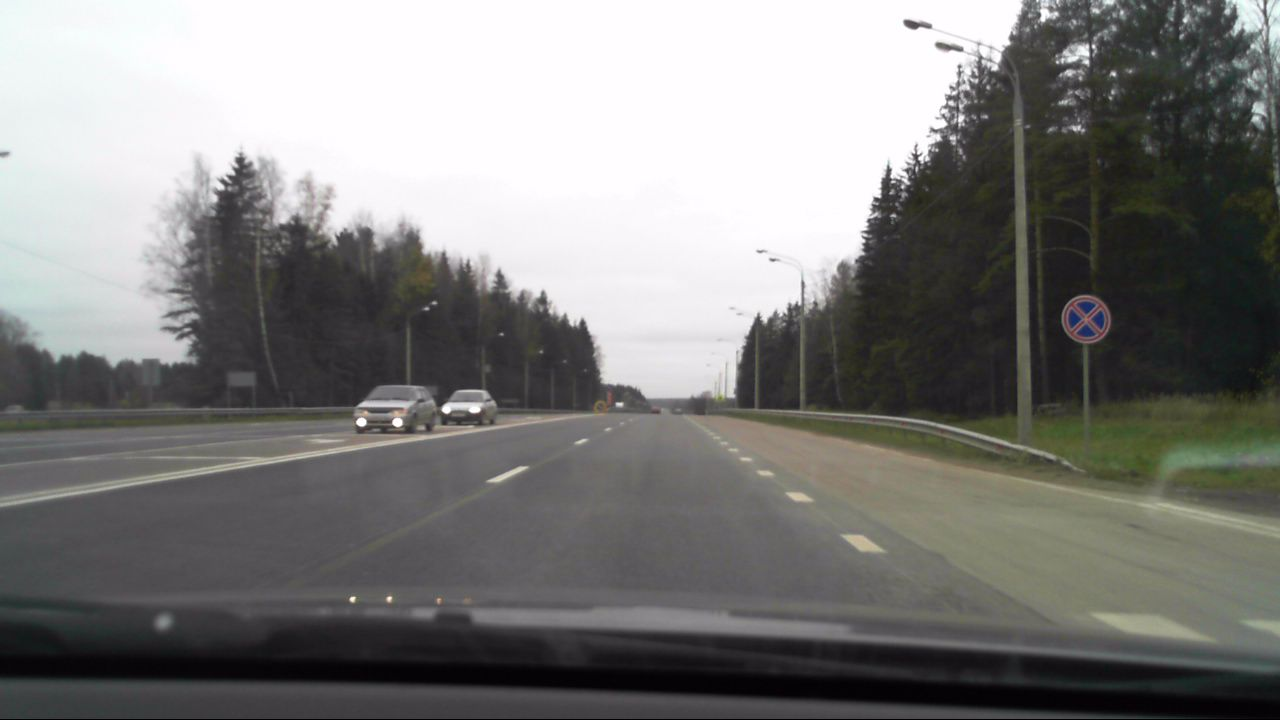No Parking: (1060, 294, 1111, 346)
